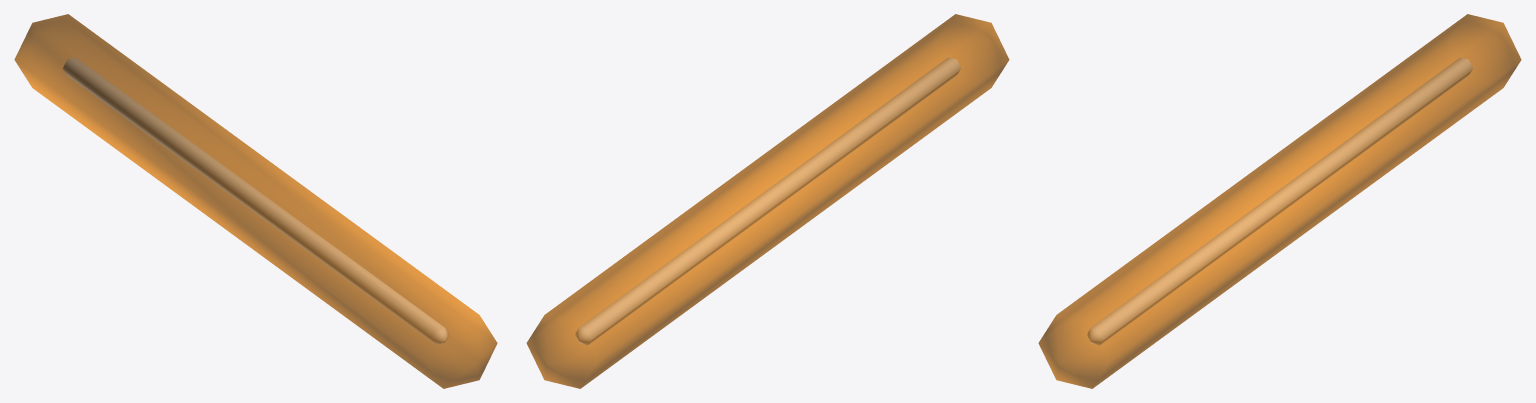
Rendered from red_orange_turret_laser_model.fbx.
The picture shows the model from 3 angles, left to right: view 1: azimuth 30°, elevation 25°; view 2: azimuth 150°, elevation 25°; view 3: azimuth 330°, elevation 25°; orthographic projection.
Visible parts, largest first — view 1: glow, bolt; view 2: glow, bolt; view 3: glow, bolt.
Part boxes in pixels (x1,y1,x2,y2): glow: (14, 14, 497, 388); bolt: (63, 57, 448, 345); glow: (526, 14, 1009, 388); bolt: (575, 57, 960, 345); glow: (1038, 14, 1521, 388); bolt: (1087, 57, 1472, 345).
Bounding box in the file's own units: 7.56 × 6.55 × 80.08.
